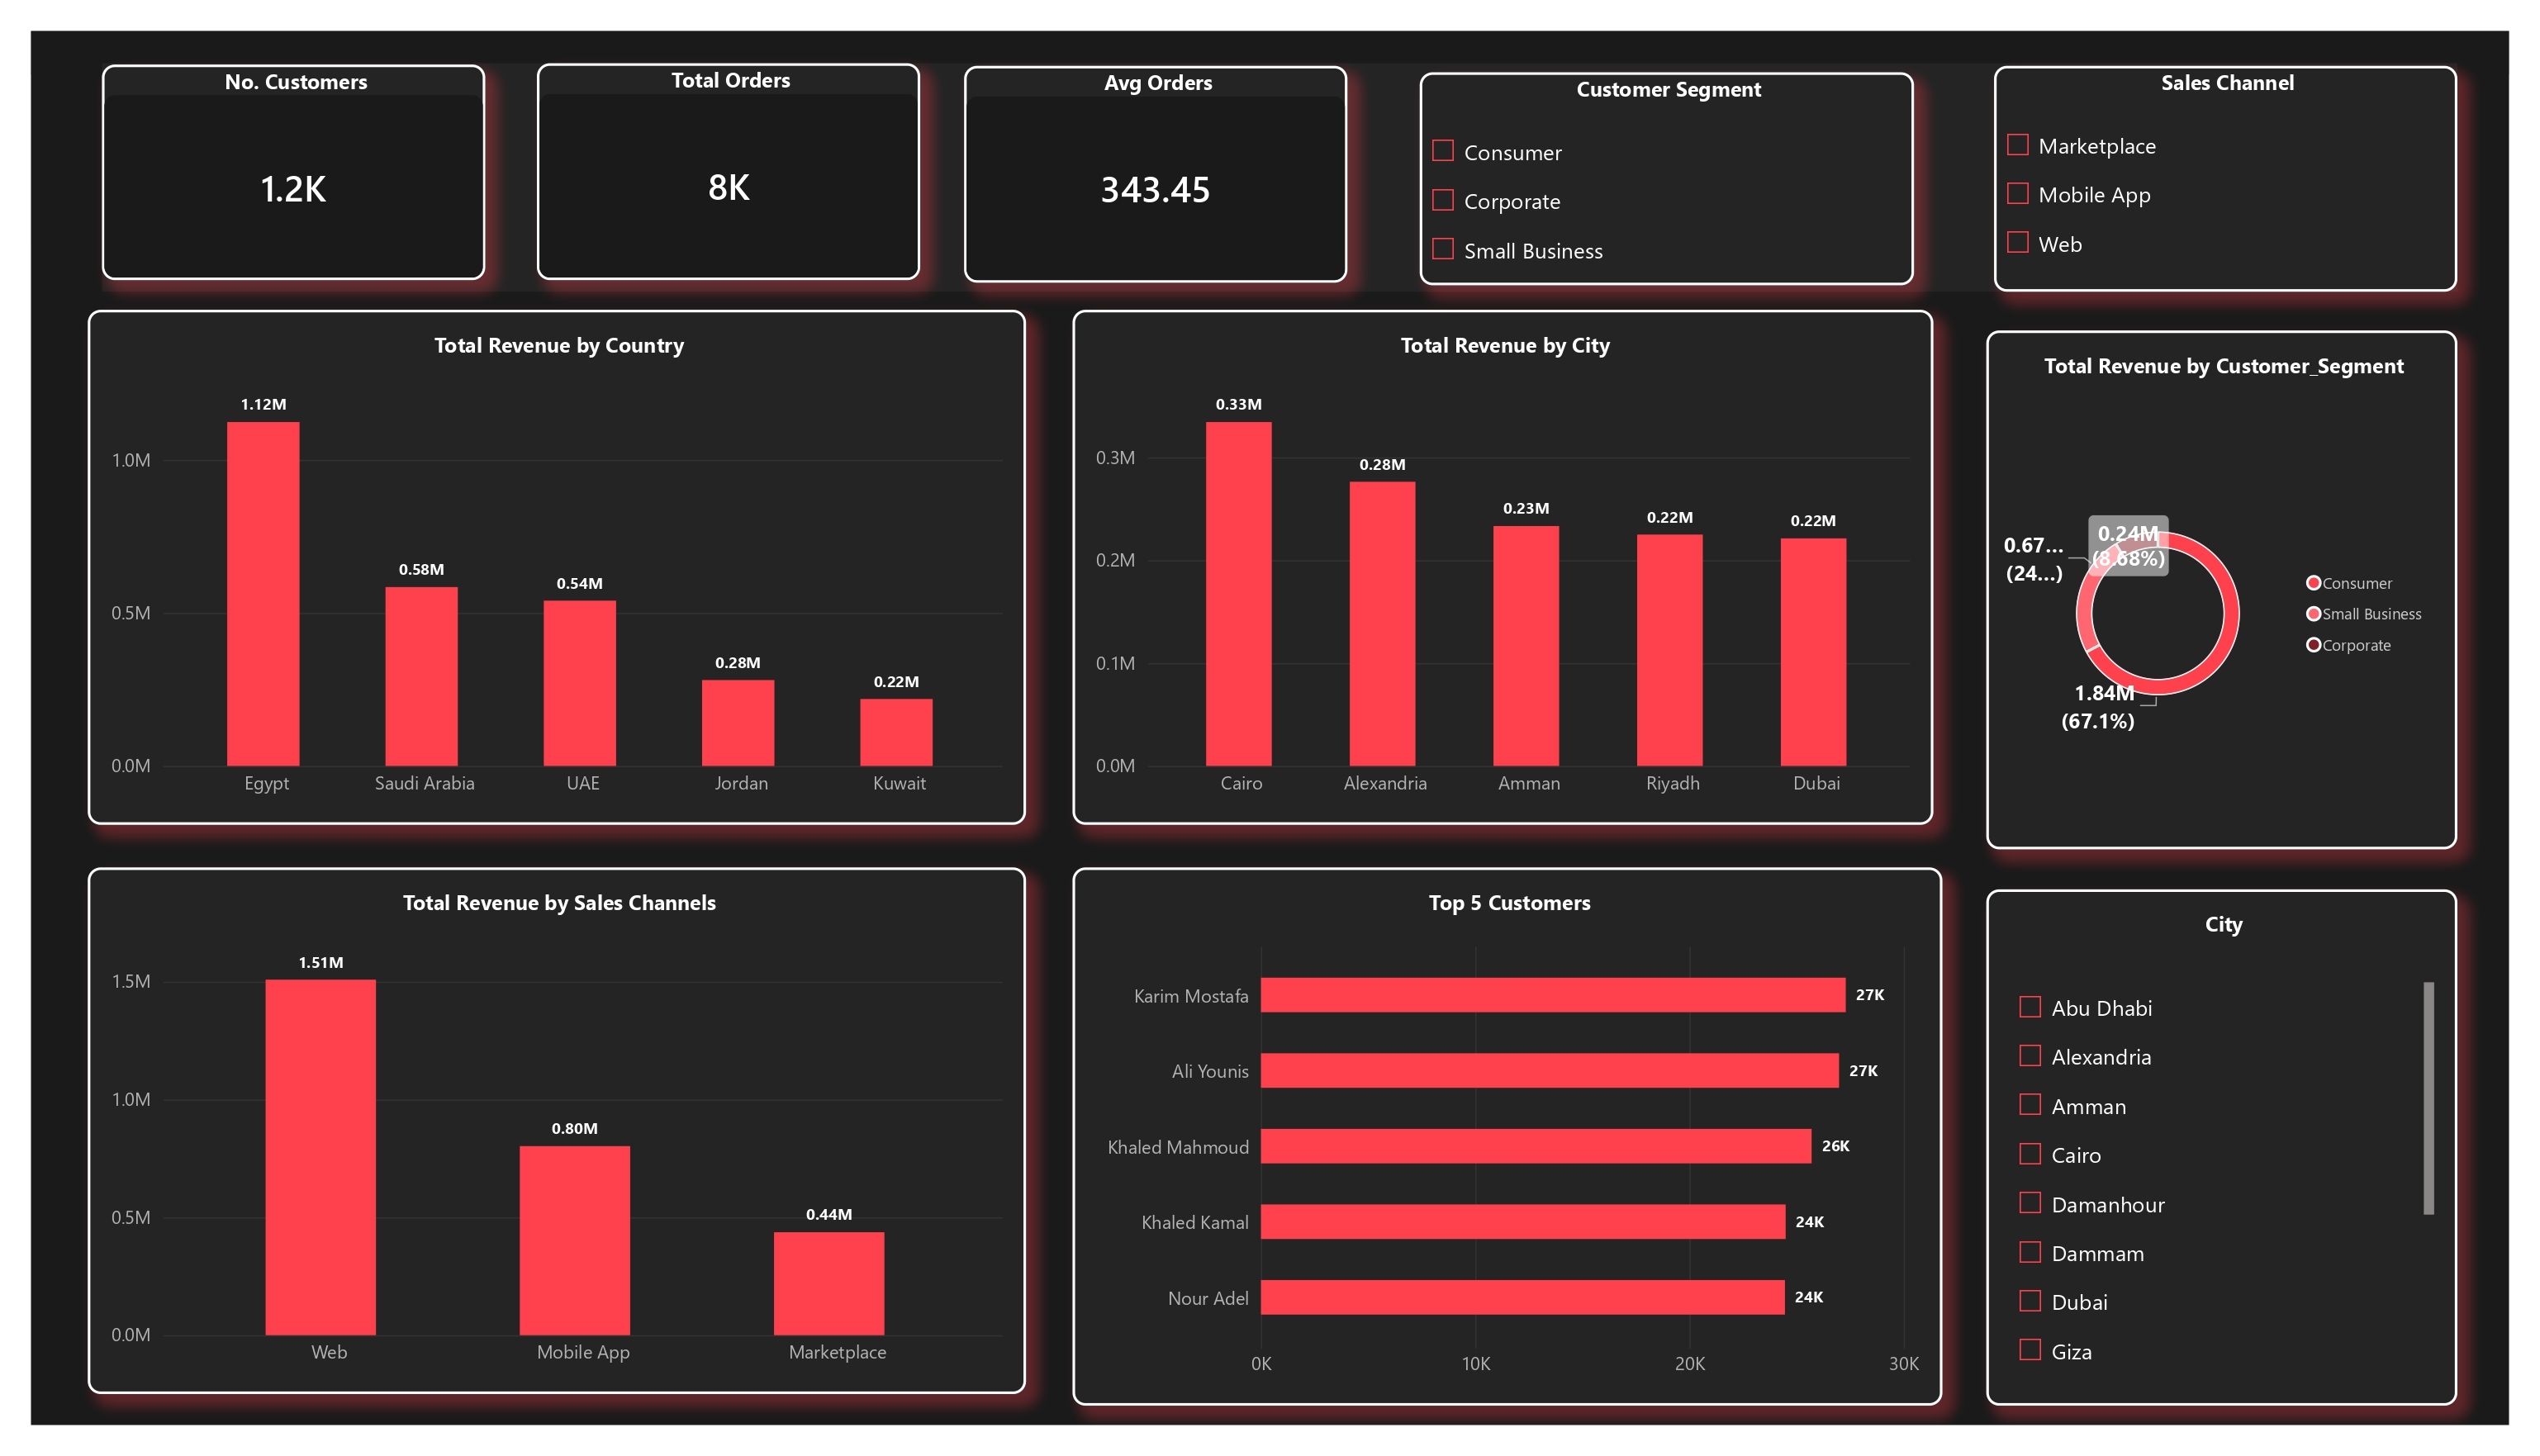

Layout of this report page (visuals, bound fields, positions):
{"tool":"powerbi","page":{"name":"Customer & Geography","canvas":[1920,1080],"ordinal":2},"visuals":[{"type":"cardVisual","title":"No. Customers","fields":{"Data":["Count(DimCustomer.Customer_ID)"]},"box":[55.1,25.3,296.9,167.5],"z":0,"group":"g1"},{"type":"clusteredBarChart","title":"Top 5 Customers","fields":{"Category":["DimCustomer.Customer_Name"],"Y":["measures_table.Total Revenue"]},"box":[807.1,647.6,674.2,417.8],"z":0},{"type":"cardVisual","title":"Total Orders","fields":{"Data":["measures_table.Total Orders"]},"box":[391.8,24.7,297.1,167.9],"z":1000,"group":"g1"},{"type":"columnChart","fields":{"Category":["DimGeography.Country"],"Y":["measures_table.Total Revenue"]},"box":[43.7,216.5,727.4,398.8],"z":1000},{"type":"cardVisual","title":"Avg Orders","fields":{"Data":["measures_table.Average Order Value"]},"box":[722.7,26.4,297.1,167.9],"z":2000,"group":"g1"},{"type":"columnChart","fields":{"Category":["DimGeography.City"],"Y":["measures_table.Total Revenue"]},"box":[807.1,216.5,666.6,398.8],"z":2000},{"type":"donutChart","fields":{"Category":["DimCustomer.Customer_Segment"],"Y":["measures_table.Total Revenue"]},"box":[1515.5,231.7,364.6,402.6],"z":3000},{"type":"clusteredColumnChart","title":"Total Revenue by Sales Channels","fields":{"Category":["DimOrder.Sales_Channel"],"Y":["measures_table.Total Revenue"]},"box":[43.7,647.6,727.4,408.3],"z":4000},{"type":"slicer","title":"City","fields":{"Values":["DimGeography.City"]},"box":[1515.5,664.7,364.6,400.7],"z":6000},{"type":"slicer","title":"Sales Channel","fields":{"Values":["DimOrder.Sales_Channel"]},"box":[1521.5,27.2,358.9,174.7],"z":10000,"group":"g1"},{"type":"group","id":"g1","title":"Group 1","box":[55.1,24.7,1825.3,177.2],"z":11000},{"type":"slicer","title":"Customer Segment","fields":{"Values":["DimCustomer.Customer_Segment"]},"box":[1075.8,31.7,383.4,165.4],"z":11000,"group":"g1"}]}

Visuals, with their boxes in screenshot pixels (x1, y1, x2, y2):
"No. Customers" cardVisual: region(35, 21, 436, 248)
"Top 5 Customers" clusteredBarChart: region(1052, 862, 1964, 1428)
"Total Orders" cardVisual: region(491, 20, 892, 247)
columnChart - DimGeography.Country x measures_table.Total Revenue: region(20, 279, 1004, 819)
"Avg Orders" cardVisual: region(938, 22, 1340, 249)
columnChart - DimGeography.City x measures_table.Total Revenue: region(1052, 279, 1954, 819)
donutChart - DimCustomer.Customer_Segment x measures_table.Total Revenue: region(2011, 300, 2504, 845)
"Total Revenue by Sales Channels" clusteredColumnChart: region(20, 862, 1004, 1415)
"City" slicer: region(2011, 885, 2504, 1428)
"Sales Channel" slicer: region(2018, 24, 2504, 260)
"Group 1" group: region(35, 20, 2504, 260)
"Customer Segment" slicer: region(1416, 30, 1934, 254)
